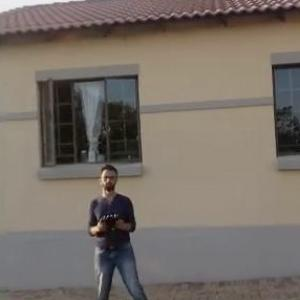follow: (84, 159, 155, 299)
